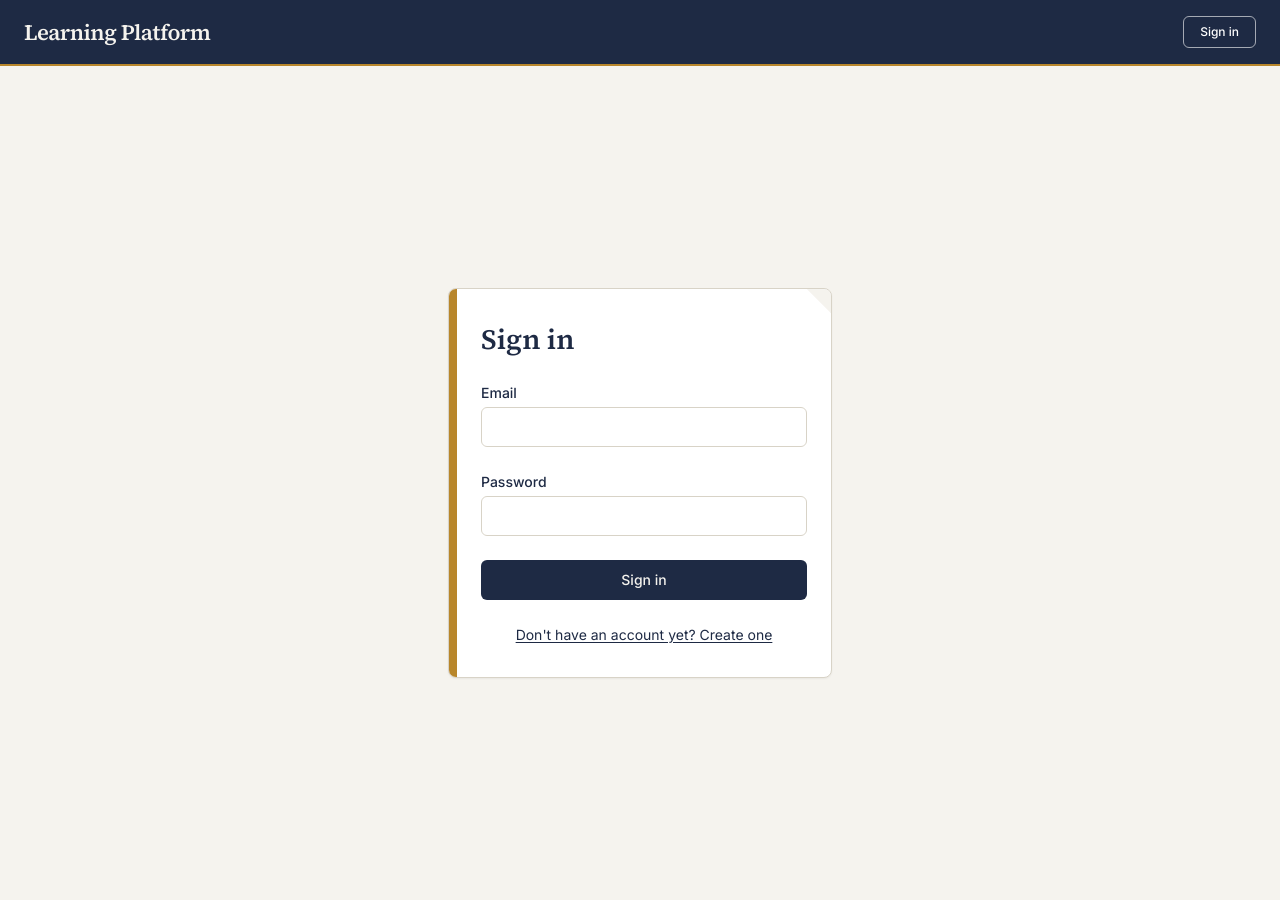
Test: LoginPage (AUTH-UX-001) › shows a failure message when the server rejects the sign-in
// submitting the form
Type "trainer@example.com" into the field labelled "Email" at {"x": 644, "y": 427}, box top-left (481, 407), bottom-right (807, 447)
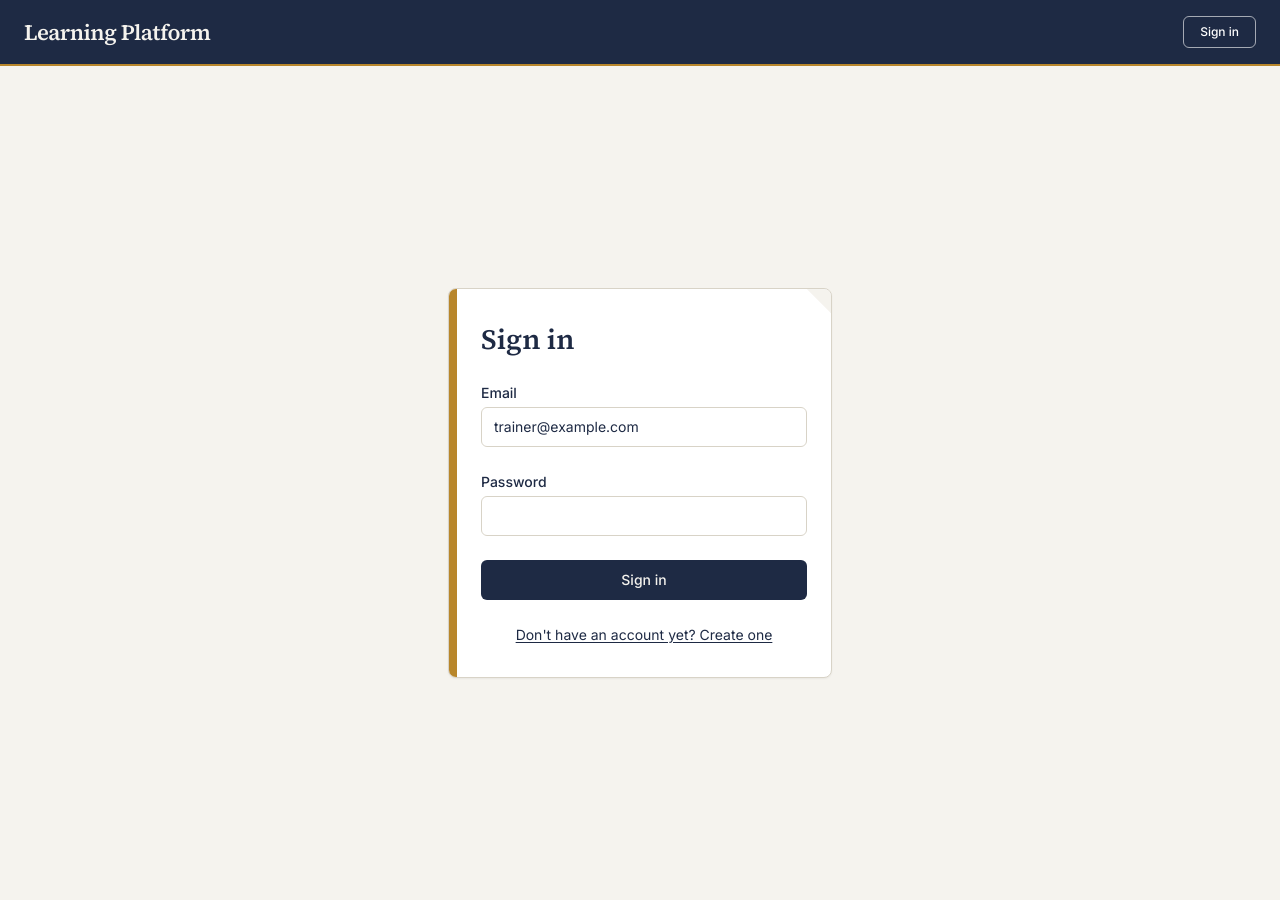
Type "wrongpassword" into the password field labelled "Password" at {"x": 644, "y": 516}, box top-left (481, 496), bottom-right (807, 536)
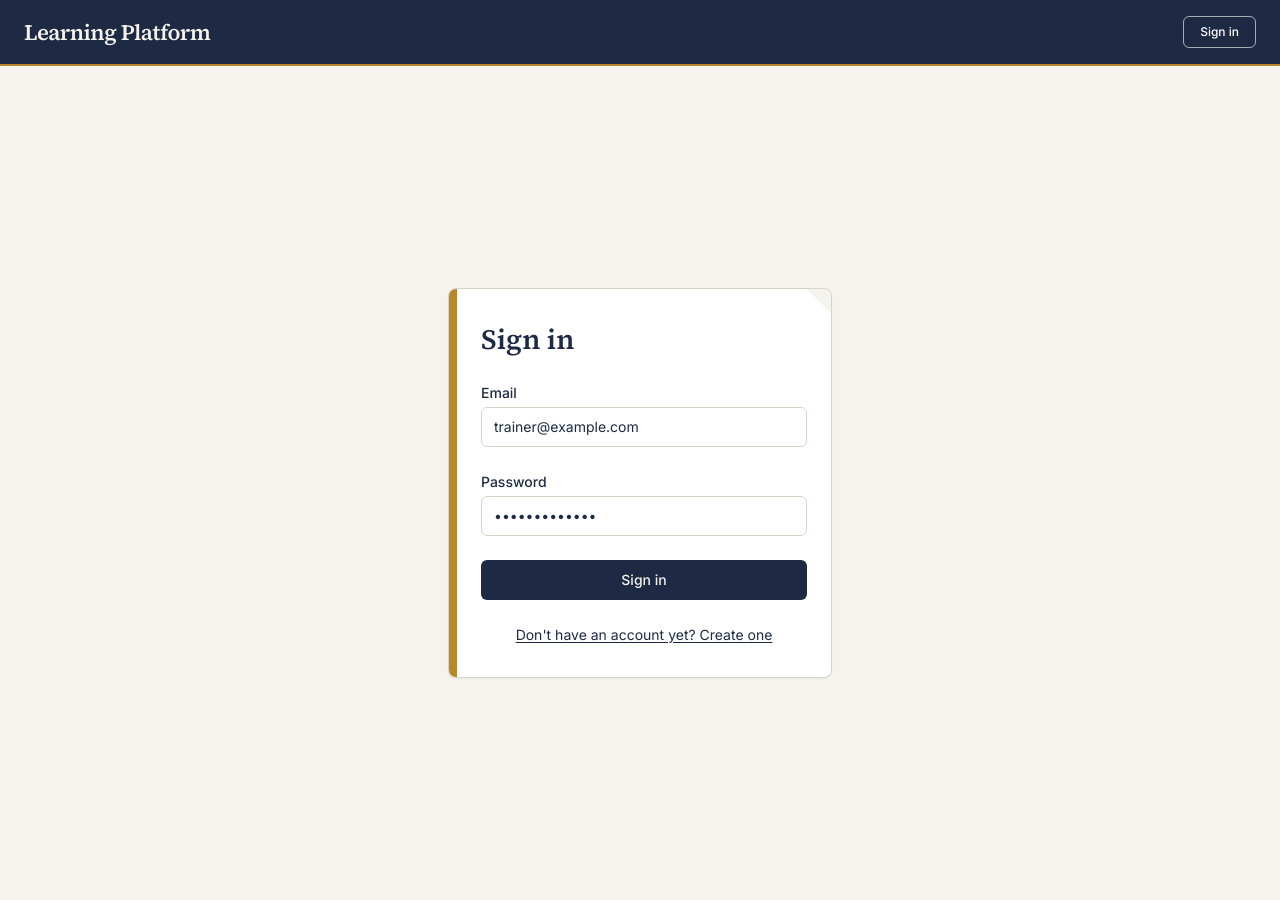
Click the button "Sign in" at {"x": 644, "y": 580}, box top-left (481, 560), bottom-right (807, 600)
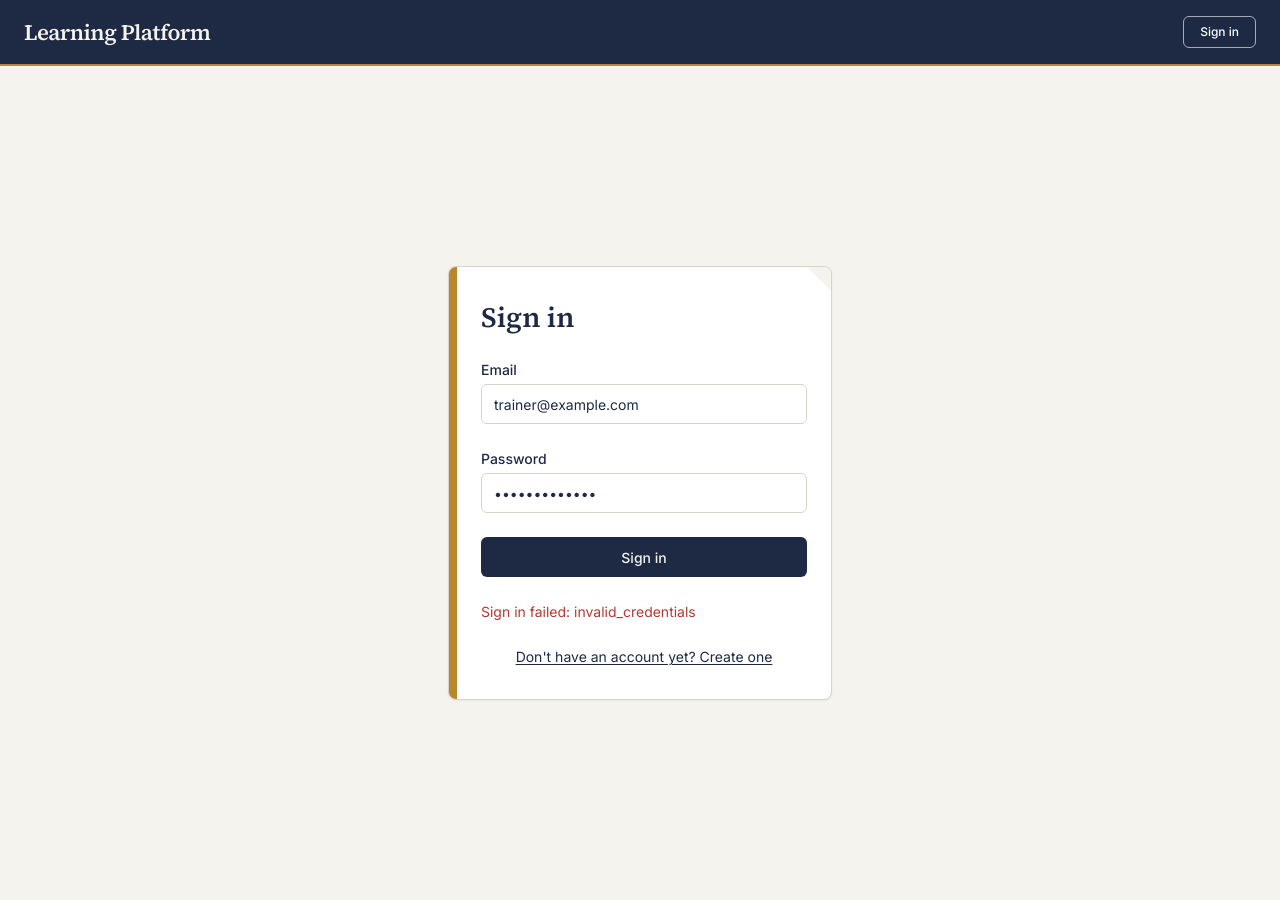
Expected: the message shows "invalid_credentials", top-left (481, 603), bottom-right (696, 620)
